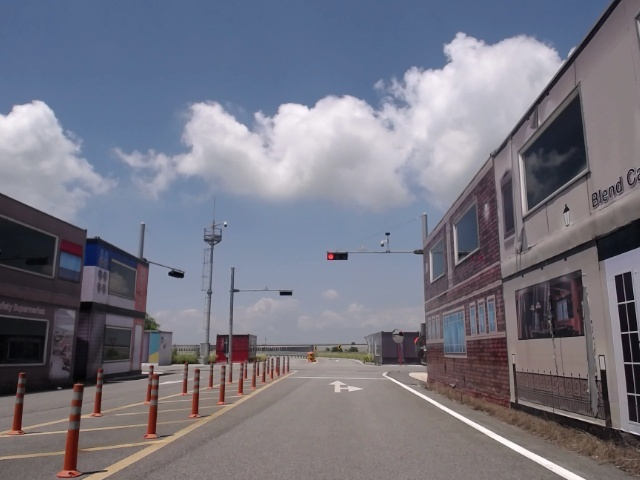red_3: (325, 252, 351, 260)
